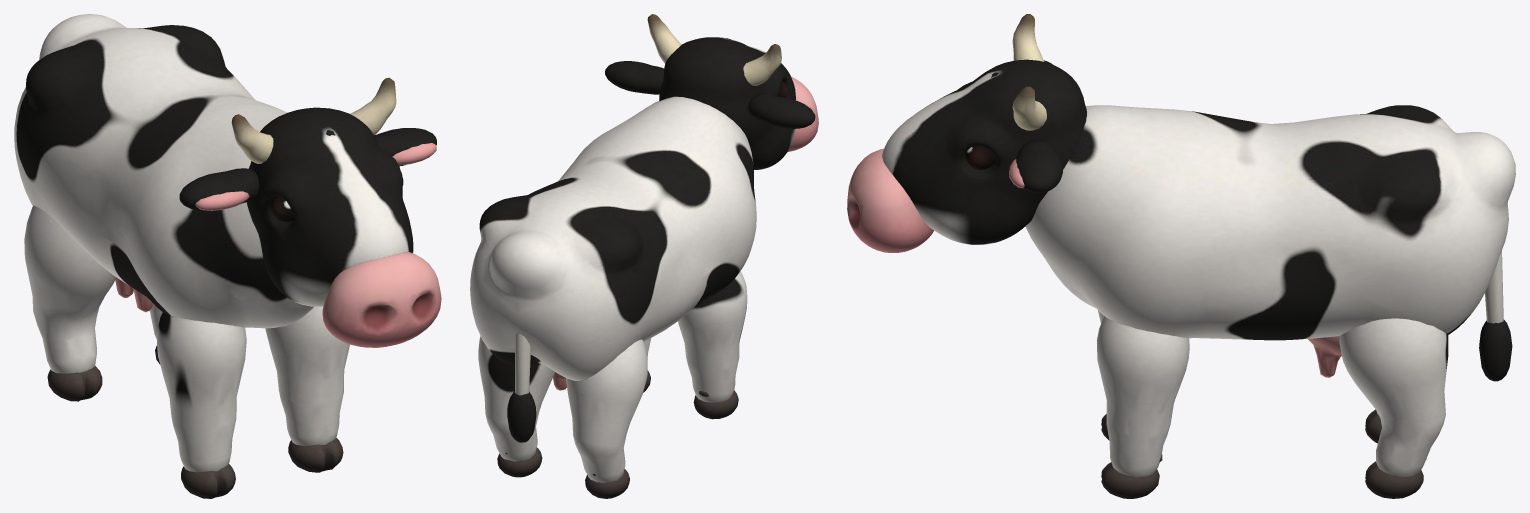
The model's file is animal_cow_hd.glb.
The picture shows the model from 3 angles, left to right: view 1: azimuth 30°, elevation 25°; view 2: azimuth 150°, elevation 25°; view 3: azimuth 270°, elevation 25°; orthographic projection. The views are drawn at different scales.
Visible parts, largest first — view 1: animal_cow_hd, head, leg0, leg2, leg1; view 2: animal_cow_hd, head, leg2, leg0, leg3, tail; view 3: animal_cow_hd, head, leg3, leg1, tail.
Boxes of the visible parts, left/top/right/bottom form: animal_cow_hd: left=14, top=14, right=313, bottom=328; head: left=179, top=77, right=441, bottom=347; leg0: left=156, top=312, right=246, bottom=498; leg2: left=24, top=205, right=116, bottom=401; leg1: left=265, top=306, right=349, bottom=472; animal_cow_hd: left=470, top=96, right=756, bottom=390; head: left=605, top=14, right=818, bottom=169; leg2: left=566, top=339, right=647, bottom=498; leg0: left=678, top=271, right=747, bottom=419; leg3: left=478, top=336, right=554, bottom=477; tail: left=507, top=333, right=536, bottom=442; animal_cow_hd: left=1025, top=105, right=1515, bottom=377; head: left=847, top=14, right=1086, bottom=252; leg3: left=1339, top=318, right=1448, bottom=498; leg1: left=1096, top=316, right=1189, bottom=498; tail: left=1479, top=250, right=1512, bottom=381.
Bounding box in the file's own units: 0.3538 × 0.5638 × 0.816.
Materials: 1 (1 with a texture image).
